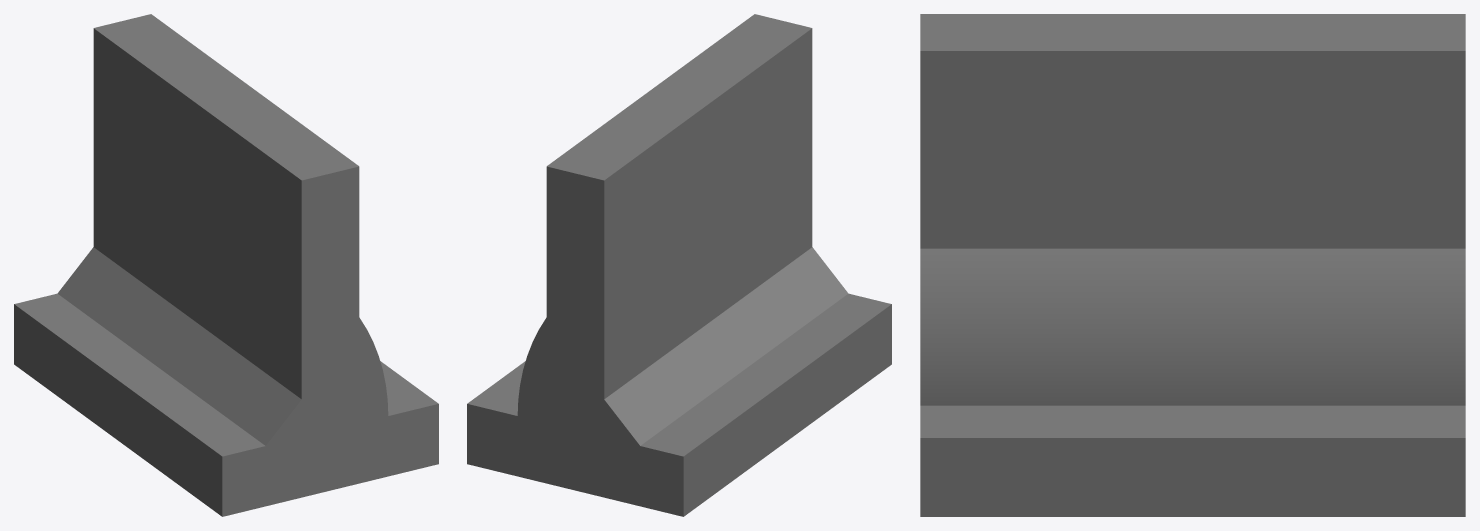
The picture shows the model from 3 angles, left to right: view 1: azimuth 30°, elevation 25°; view 2: azimuth 150°, elevation 25°; view 3: azimuth 270°, elevation 25°; orthographic projection. The views are drawn at different scales.
Parts seen in each view (by area): view 1: mesh_id4, mesh_id5; view 2: mesh_id4, mesh_id5; view 3: mesh_id4, mesh_id5.
Boxes of the visible parts, <box> form: mesh_id4: <box>14,14,438,516</box>; mesh_id5: <box>57,247,388,453</box>; mesh_id4: <box>467,14,891,516</box>; mesh_id5: <box>517,247,848,453</box>; mesh_id4: <box>920,14,1465,516</box>; mesh_id5: <box>920,248,1465,405</box>.
Size of the model in its own units: 0.3657 by 0.512 by 0.6095.
Materials: 2 (2 with a texture image).
